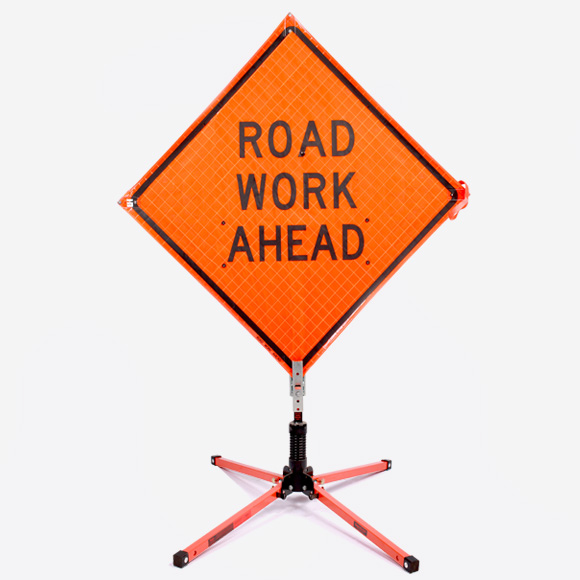Road_workahead: (122, 12, 476, 377)
